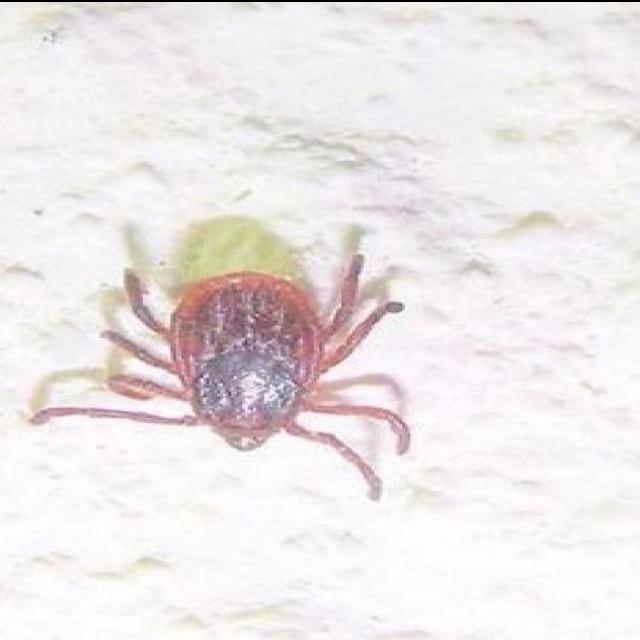Rhipicephalus Sanguineus-F: (35, 251, 410, 496)
